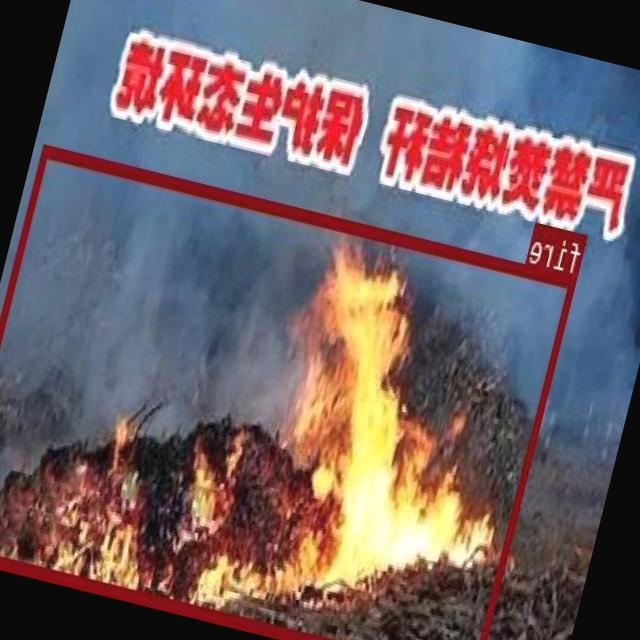fire: (0, 142, 578, 640)
